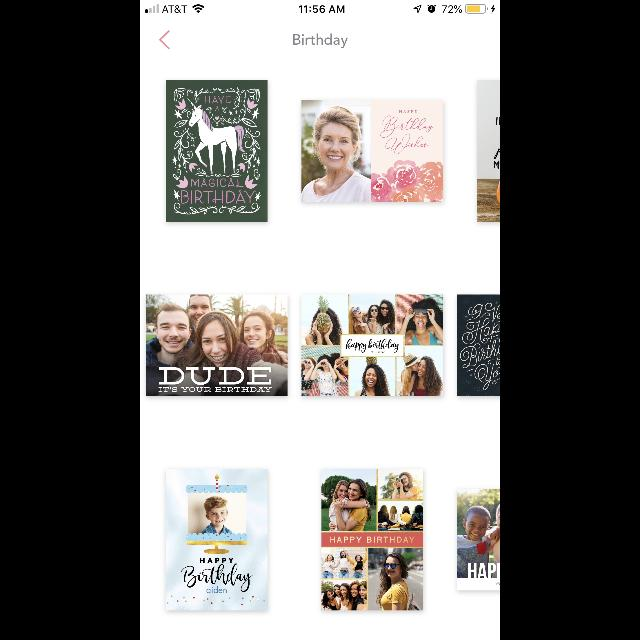icon: (160, 30, 170, 50)
image: (166, 80, 268, 222), (301, 100, 443, 202), (146, 295, 288, 397), (301, 294, 443, 396), (166, 469, 268, 611), (321, 469, 423, 611), (456, 295, 499, 397), (458, 489, 500, 591), (476, 80, 499, 222)
text: (292, 34, 348, 48)
uppertaskbar: (140, 0, 500, 14)
